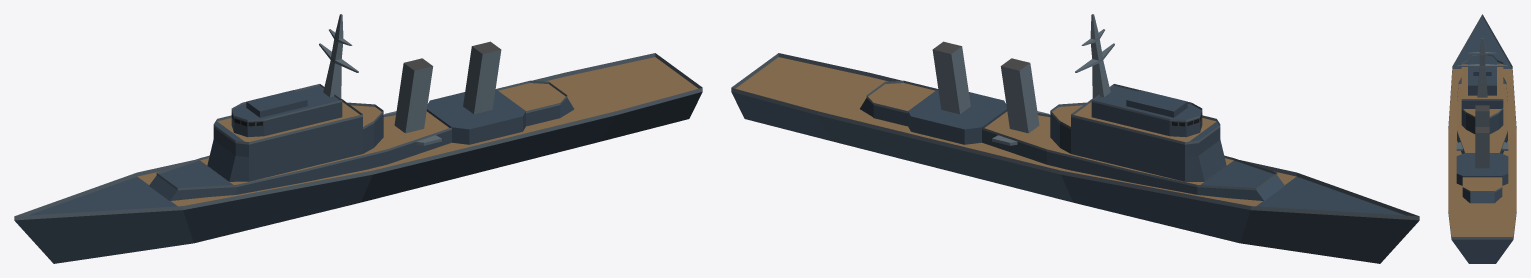
The model's file is ShipDestroyer1.fbx.
The picture shows the model from 3 angles, left to right: view 1: azimuth 30°, elevation 25°; view 2: azimuth 150°, elevation 25°; view 3: azimuth 270°, elevation 25°; orthographic projection. The views are drawn at different scales.
Visible parts, largest first — view 1: Ship_platform, Cube, Barrier, Cube.003, Cube.001; view 2: Ship_platform, Cube, Barrier, Cube.003, Cube.001; view 3: Ship_platform, Cube, Cube.003, Barrier, Cube.001.
Boxes of the visible parts, x1,y1,x2,y2 form: Ship_platform: (14,57,702,263); Cube: (149,83,573,200); Barrier: (14,53,702,220); Cube.003: (394,41,501,133); Cube.001: (319,14,358,98); Ship_platform: (731,57,1419,263); Cube: (860,83,1284,200); Barrier: (731,53,1419,220); Cube.003: (932,41,1039,133); Cube.001: (1075,14,1114,98); Ship_platform: (1448,17,1516,263); Cube: (1456,55,1508,203); Cube.003: (1475,105,1489,168); Barrier: (1448,14,1516,239); Cube.001: (1457,38,1507,97).
Bounding box in the file's own units: 2791 × 719 × 381.
